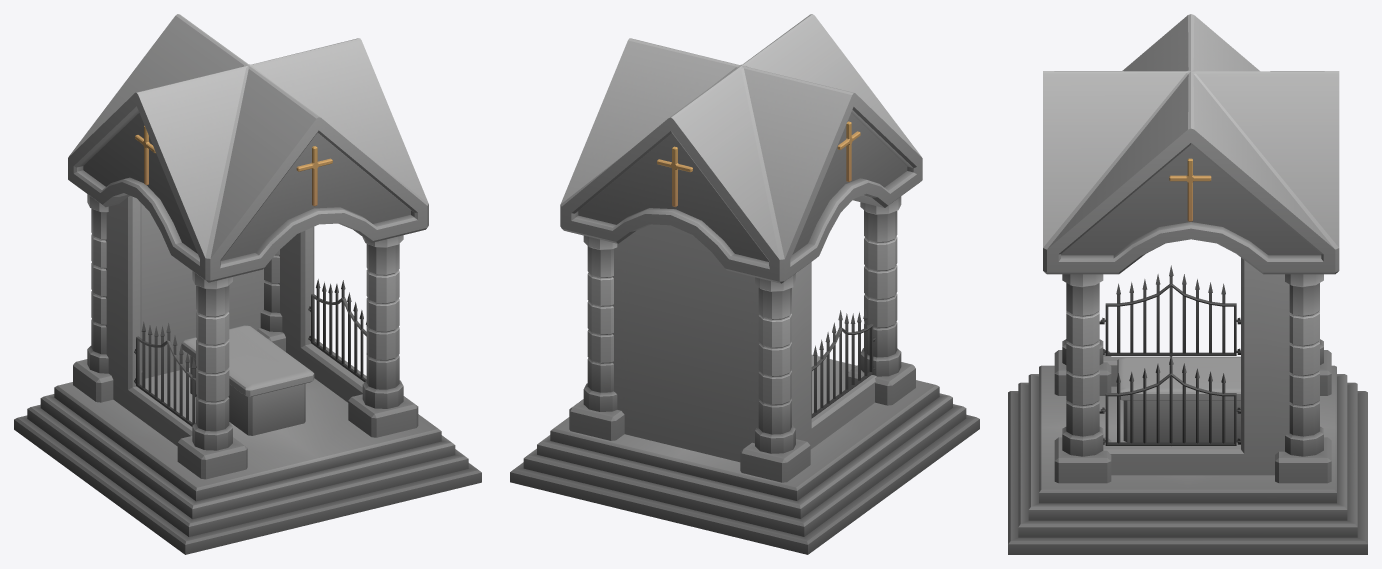
The model's file is Mausoleum.fbx.
The picture shows the model from 3 angles, left to right: view 1: azimuth 30°, elevation 25°; view 2: azimuth 150°, elevation 25°; view 3: azimuth 270°, elevation 25°; orthographic projection. The views are drawn at different scales.
Visible parts, largest first — view 1: Base, Back, Coffin, Crosses; view 2: Base, Back, Crosses; view 3: Base, Back, Coffin, Crosses.
Part boxes in pixels (<box>): Base: <box>14,14,481,554</box>; Back: <box>105,196,367,446</box>; Coffin: <box>181,325,314,435</box>; Crosses: <box>135,125,332,206</box>; Base: <box>510,14,979,554</box>; Back: <box>612,224,876,462</box>; Crosses: <box>657,121,860,207</box>; Base: <box>1008,14,1367,554</box>; Back: <box>1099,258,1291,475</box>; Coffin: <box>1117,357,1240,442</box>; Crosses: <box>1169,158,1211,221</box>.
Size of the model in its own units: 6.35 by 7.96 by 6.35.
1 material, 1 textured.
